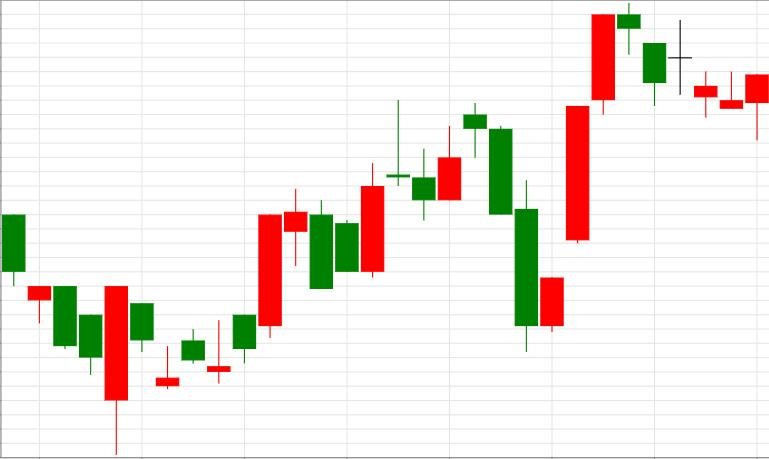bullish_engulfing_rise: (1, 214, 129, 455)
evening_star_fall: (207, 100, 436, 384)
three_white_soldiers_rise: (464, 14, 615, 352)
